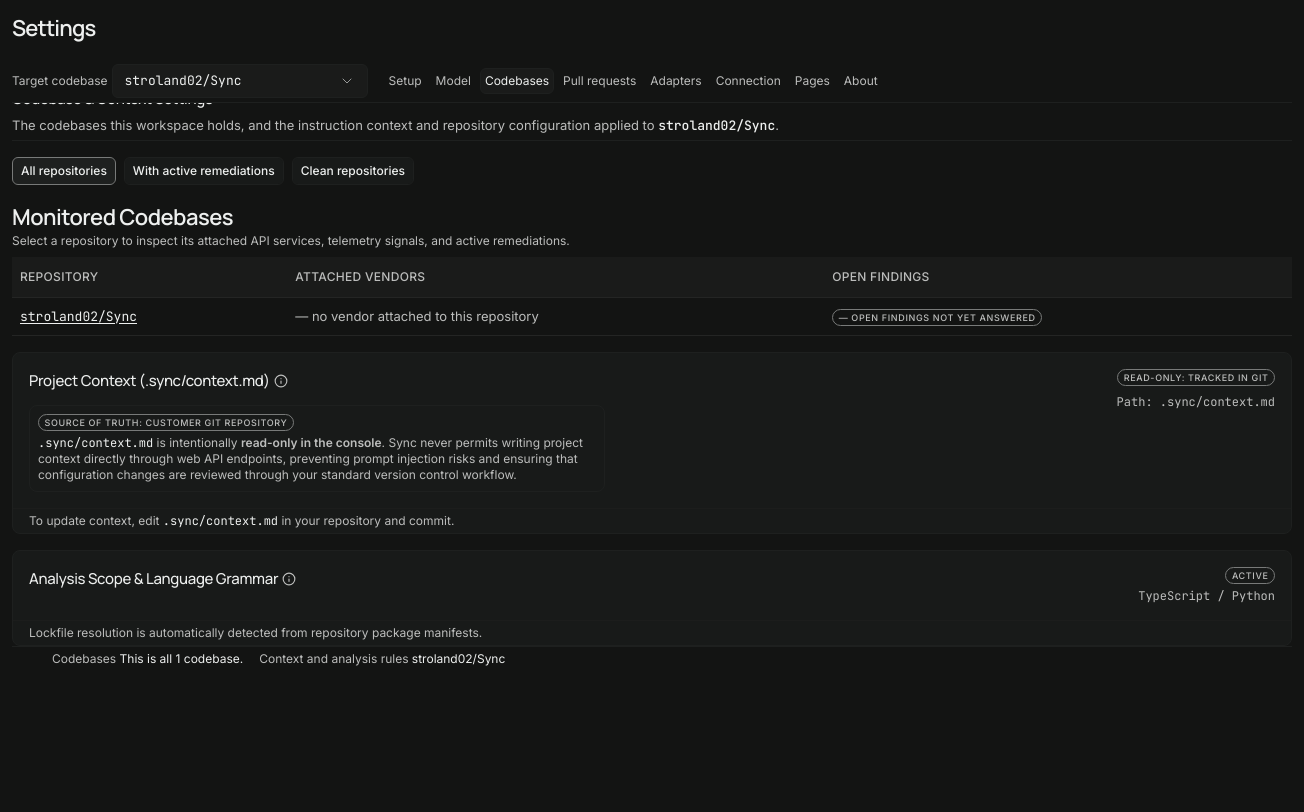
Test: Settings on ScreenFrame › says the same for the page guides, which also hold no records
Click the button "Pages": (812, 81) [790, 68, 835, 94]
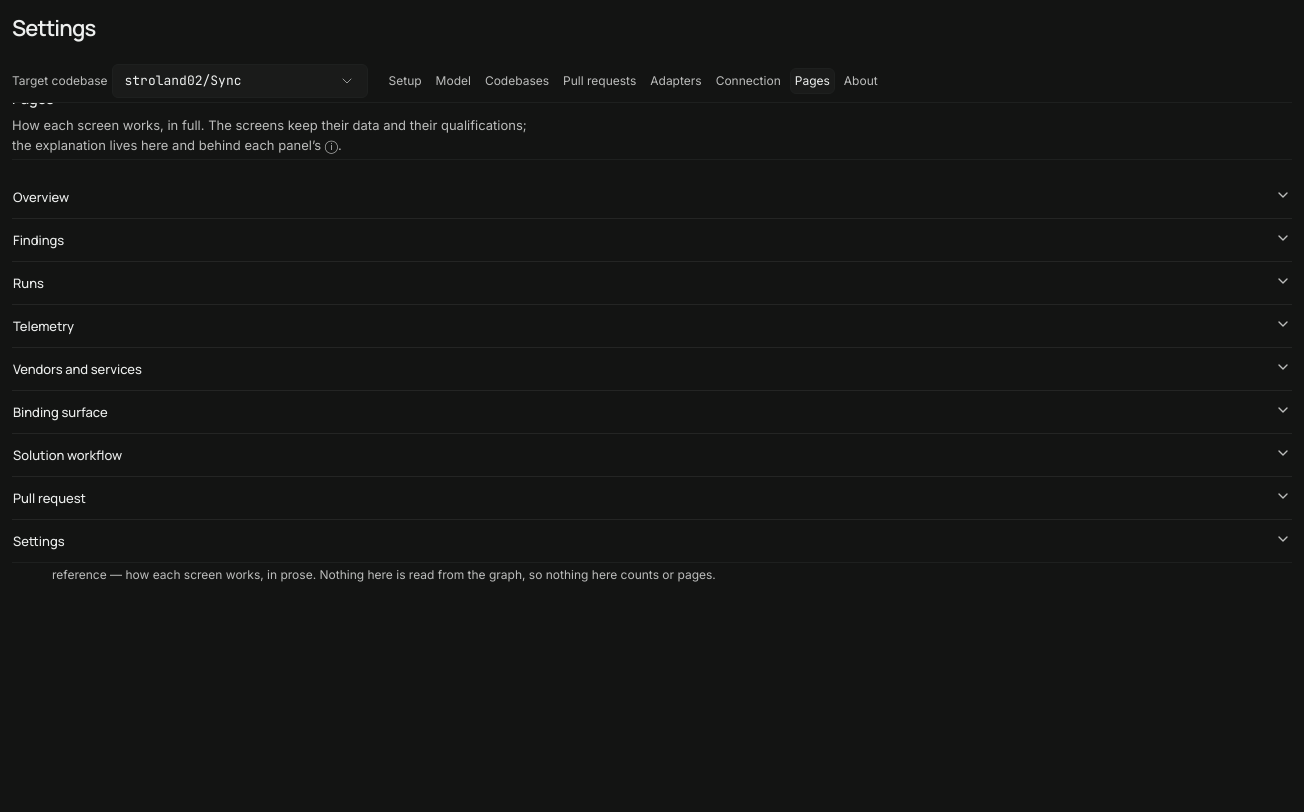
Result: the text "reference" is shown at [52, 567, 716, 582]
